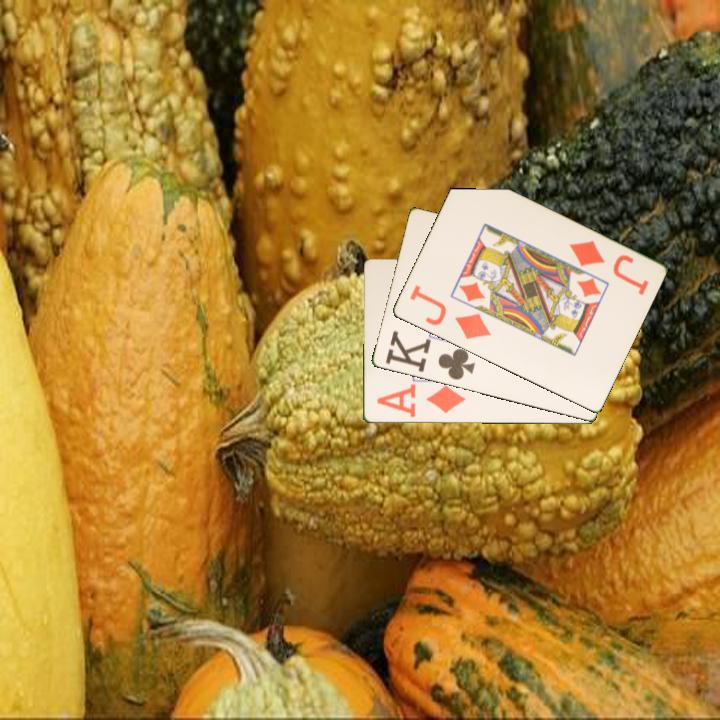Ad: (373, 381, 468, 420)
Jd: (406, 281, 494, 342), (565, 237, 651, 299)
Kc: (382, 328, 478, 383)
